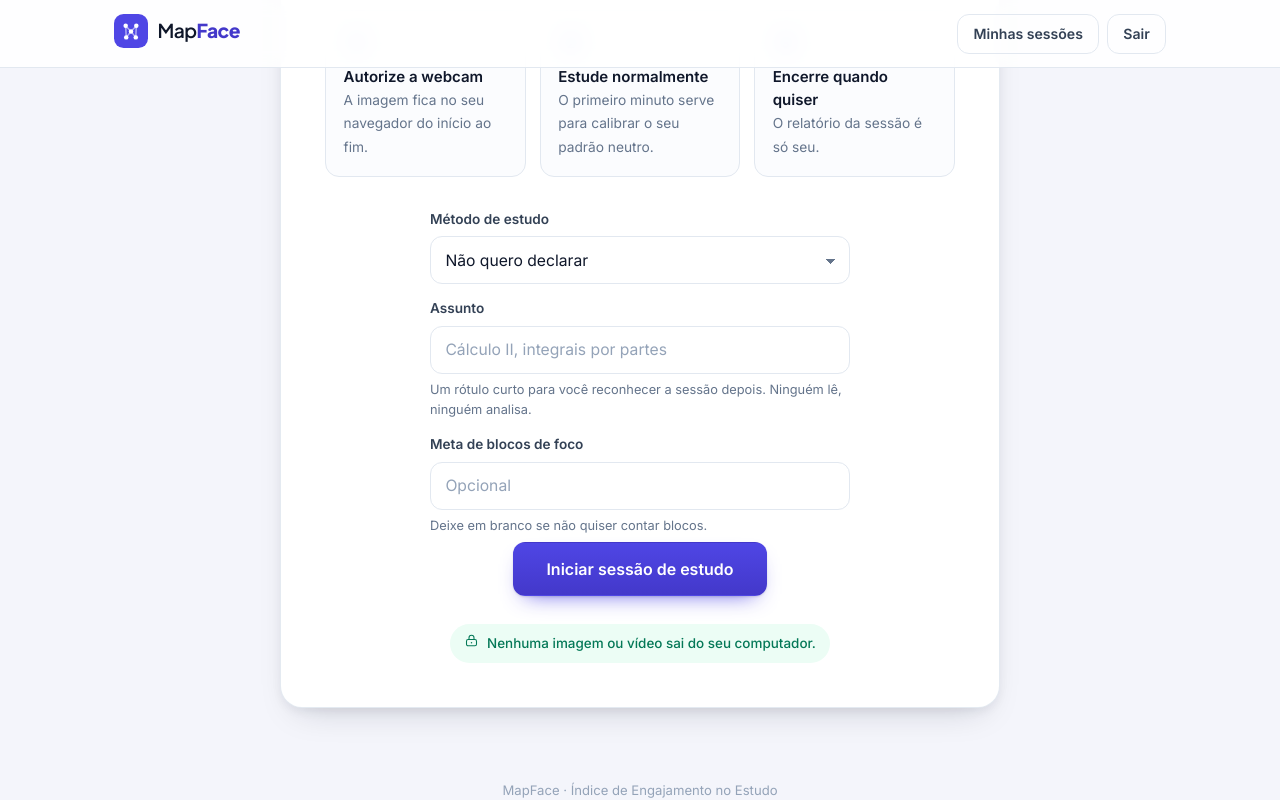
Test: HomeComponent › webcam › explica que a sessão não começa sem autorização da webcam
The image size is (1280, 800).
(page scrolled)
Click the button "Iniciar sessão de estudo". click: (640, 569)
box: [513,542,767,596]
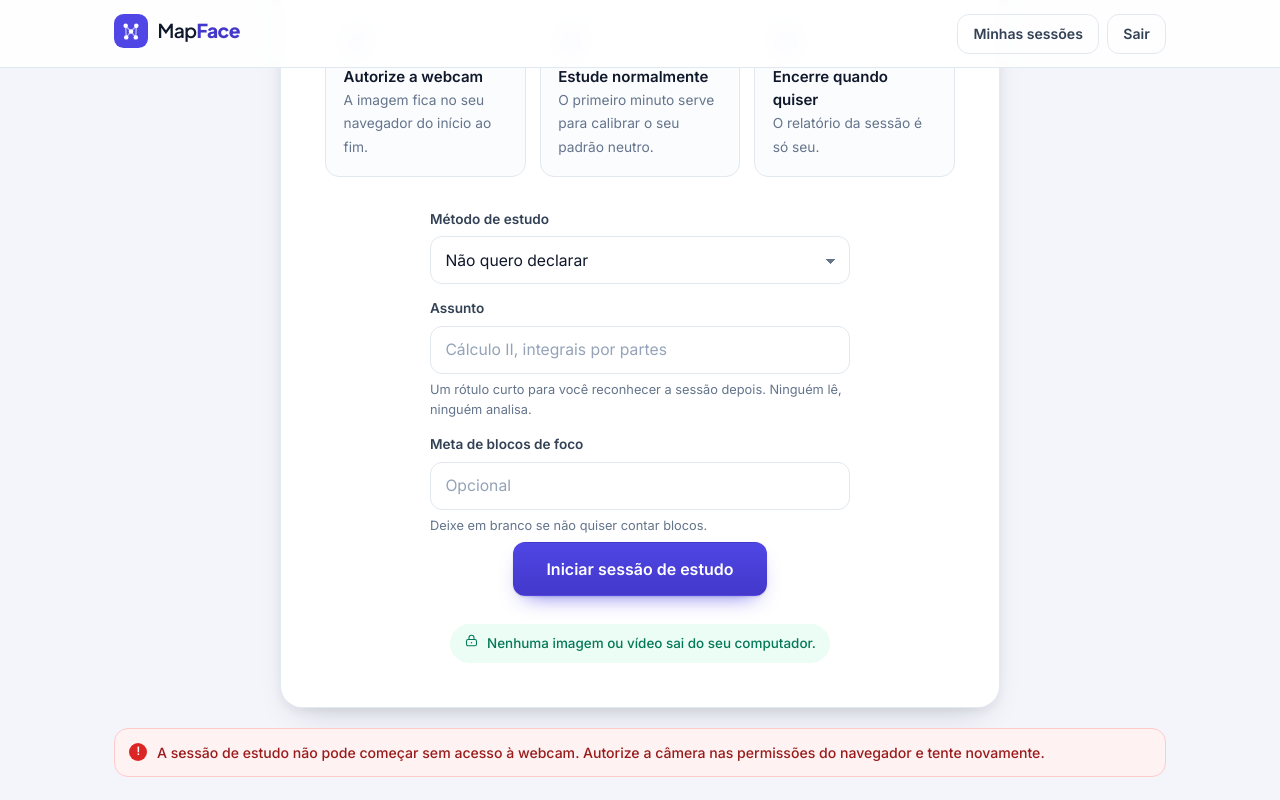
Now the text "Autorize a câmera" is shown, box [157,744,1045,761]
